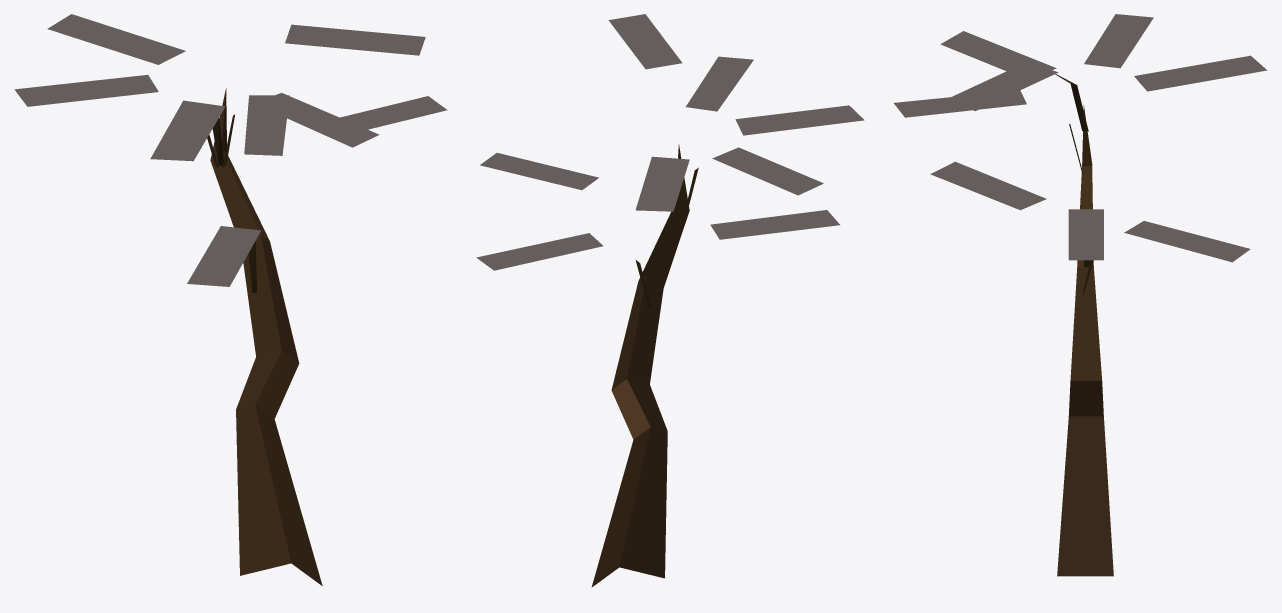
File: obj_tree_8_0.obj
The picture shows the model from 3 angles, left to right: view 1: azimuth 30°, elevation 25°; view 2: azimuth 150°, elevation 25°; view 3: azimuth 270°, elevation 25°; orthographic projection. The views are drawn at different scales.
Size of the model in its own units: 1.92 by 2.65 by 1.75.
